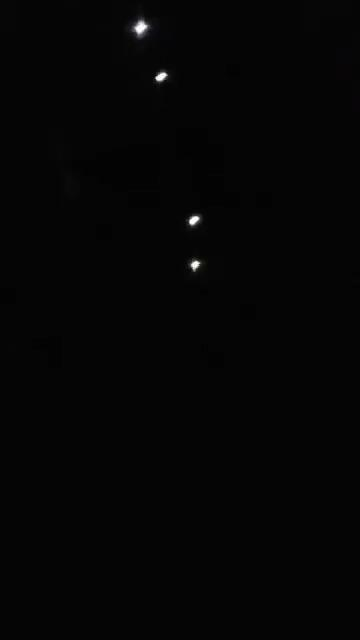Plane: (119, 10, 237, 274)
